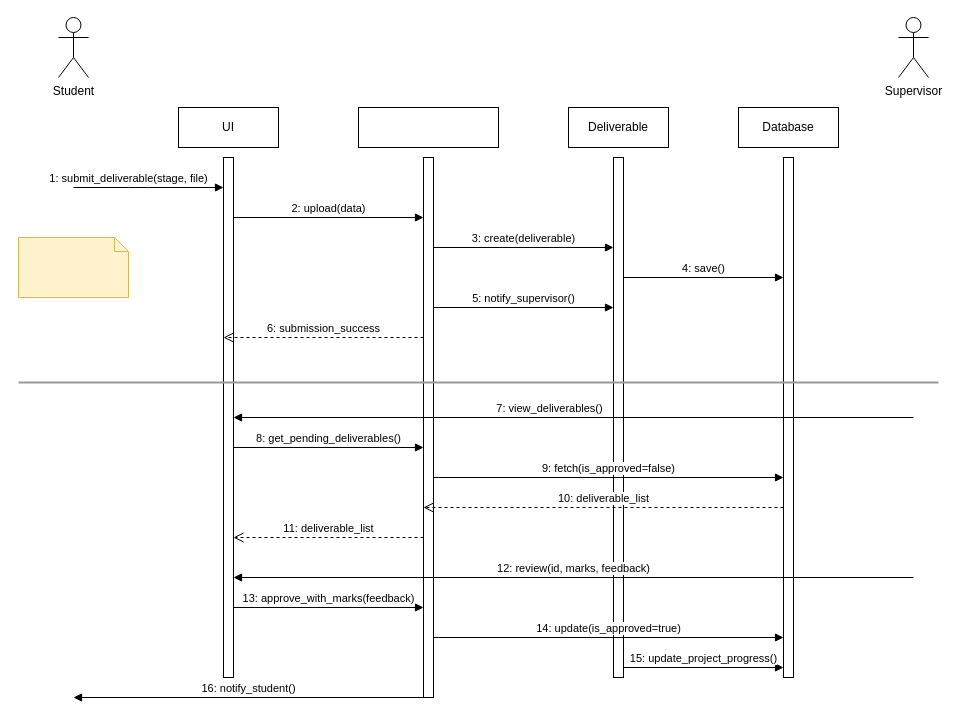
This 959x723 diagram has some shape labels left out. The centre of each missing label's shape, as x and y in pixels:
DeliverableController: point 428,127
Student submits deliverable: point 73,267
